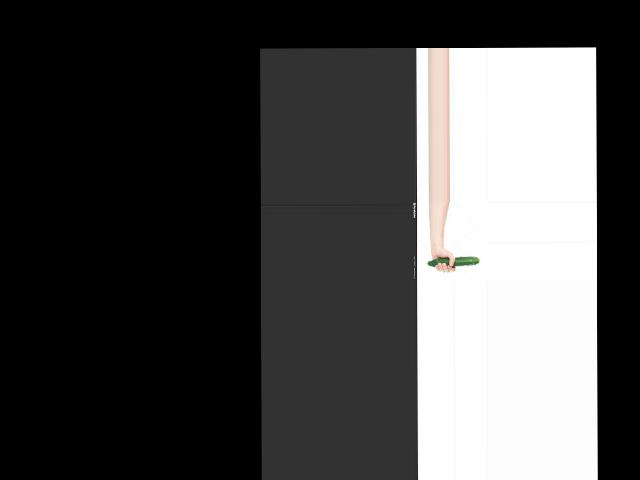cucumber: (426, 256, 479, 267)
